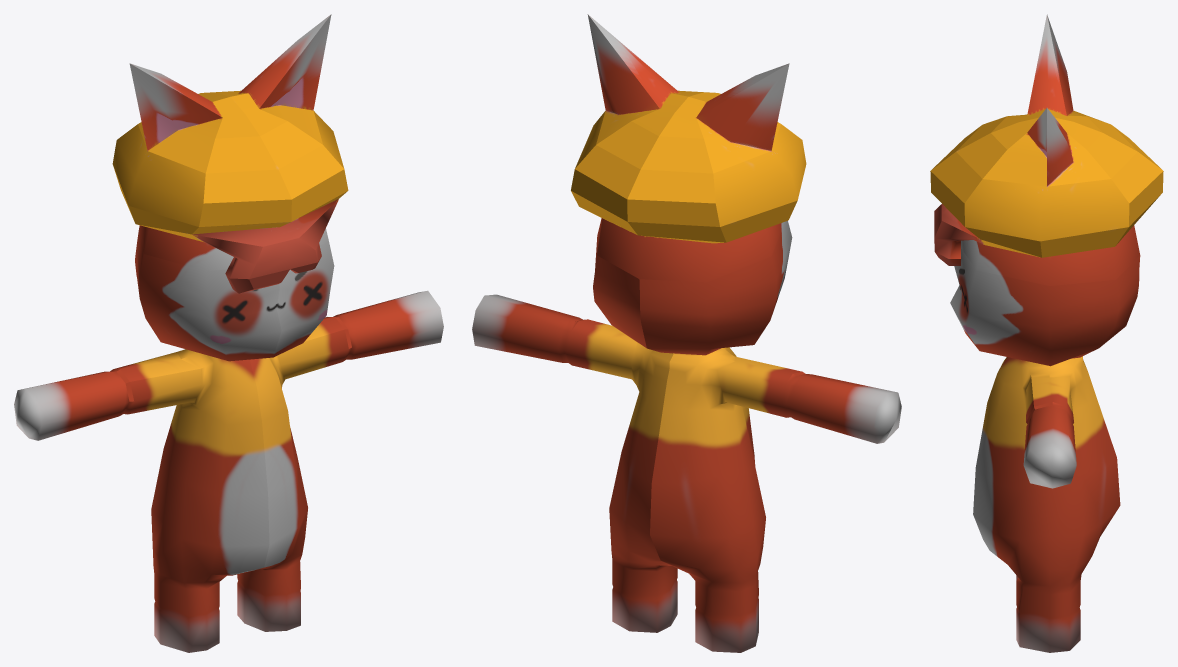
Rendered from Enemy1_Color_Fix.fbx.
The picture shows the model from 3 angles, left to right: view 1: azimuth 30°, elevation 25°; view 2: azimuth 150°, elevation 25°; view 3: azimuth 270°, elevation 25°; orthographic projection. The views are drawn at different scales.
Visible parts, largest first — view 1: Body, Hat, Hair; view 2: Body, Hat; view 3: Body, Hat, Hair.
Part boxes in pixels (<box>): Body: <box>14,225,443,652</box>; Hat: <box>112,14,348,241</box>; Hair: <box>192,199,338,293</box>; Body: <box>472,218,901,652</box>; Hat: <box>571,14,806,243</box>; Body: <box>950,225,1140,652</box>; Hat: <box>930,14,1163,257</box>; Hair: <box>934,204,983,265</box>.
Size of the model in its own units: 8.67 by 11.63 by 4.38.
